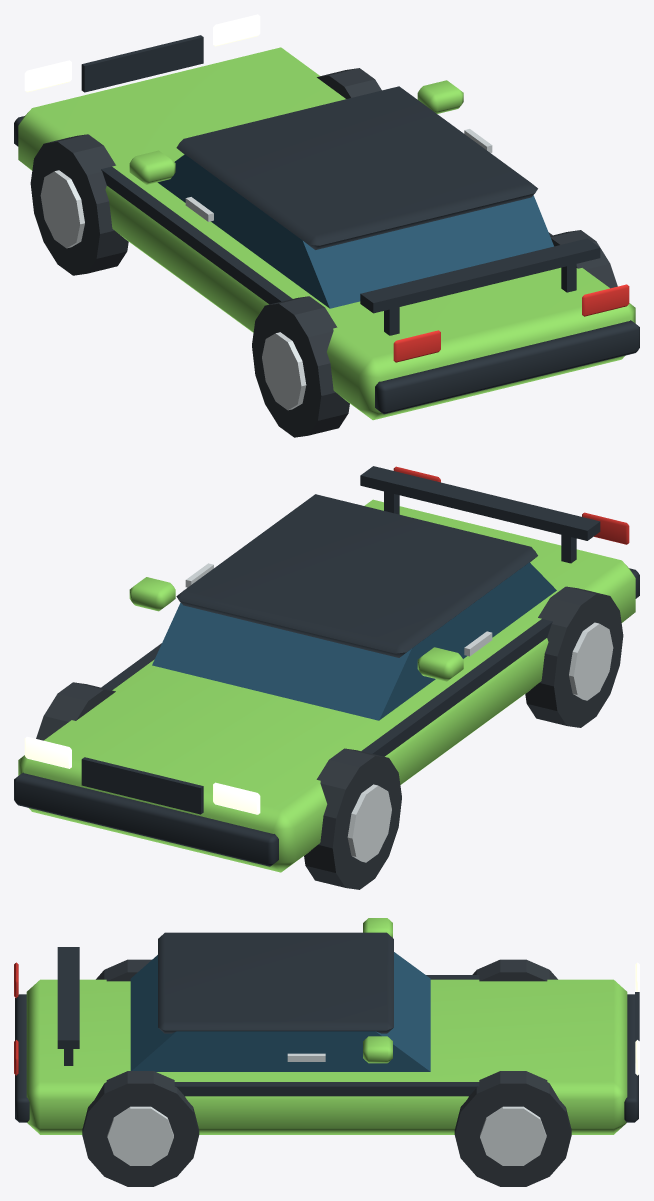
File: car_sport.glb
The picture shows the model from 3 angles, top to bottom: view 1: azimuth 30°, elevation 25°; view 2: azimuth 150°, elevation 25°; view 3: azimuth 270°, elevation 25°; orthographic projection. The views are drawn at different scales.
Parts seen in each view (by area): view 1: car_sport_lower, car_sport_roof, car_sport_glasshouse, car_sport_rear_bumper, car_sport_tire, car_sport_tire.001, car_sport_spoiler, car_sport_side_sill, car_sport_grille, car_sport_hub, car_sport_hub.001, car_sport_tire.003 (+7 smaller); view 2: car_sport_lower, car_sport_roof, car_sport_glasshouse, car_sport_front_bumper, car_sport_tire.001, car_sport_tire, car_sport_spoiler, car_sport_side_sill, car_sport_grille, car_sport_hub, car_sport_hub.001, car_sport_tire.003 (+6 smaller); view 3: car_sport_lower, car_sport_roof, car_sport_glasshouse, car_sport_tire.002, car_sport_tire.003, car_sport_side_sill.001, car_sport_hub.002, car_sport_hub.003, car_sport_spoiler, car_sport_rear_bumper, car_sport_tire.001, car_sport_front_bumper (+3 smaller).
Part boxes in pixels (x1,y1,x2,y2): car_sport_lower: [18, 47, 635, 420]; car_sport_roof: [176, 86, 537, 249]; car_sport_glasshouse: [157, 154, 553, 308]; car_sport_rear_bumper: [375, 320, 639, 414]; car_sport_tire: [252, 296, 349, 437]; car_sport_tire.001: [30, 134, 128, 275]; car_sport_spoiler: [360, 238, 600, 313]; car_sport_side_sill: [101, 166, 292, 304]; car_sport_grille: [81, 35, 203, 92]; car_sport_hub: [262, 332, 306, 410]; car_sport_hub.001: [40, 170, 84, 248]; car_sport_tire.003: [317, 68, 381, 98]; car_sport_lower: [18, 499, 635, 872]; car_sport_roof: [176, 494, 537, 657]; car_sport_glasshouse: [152, 562, 556, 720]; car_sport_front_bumper: [14, 772, 278, 866]; car_sport_tire.001: [304, 748, 401, 889]; car_sport_tire: [525, 586, 623, 727]; car_sport_spoiler: [360, 466, 600, 540]; car_sport_side_sill: [361, 619, 552, 756]; car_sport_grille: [81, 757, 203, 814]; car_sport_hub: [569, 622, 613, 700]; car_sport_hub.001: [347, 784, 391, 862]; car_sport_tire.003: [36, 682, 115, 740]; car_sport_lower: [26, 979, 627, 1134]; car_sport_roof: [158, 932, 393, 1033]; car_sport_glasshouse: [130, 952, 430, 1071]; car_sport_tire.002: [82, 1071, 199, 1186]; car_sport_tire.003: [454, 1071, 571, 1186]; car_sport_side_sill.001: [174, 1082, 479, 1096]; car_sport_hub.002: [107, 1106, 173, 1165]; car_sport_hub.003: [480, 1106, 546, 1165]; car_sport_spoiler: [57, 947, 79, 1048]; car_sport_rear_bumper: [15, 994, 29, 1122]; car_sport_tire.001: [472, 959, 557, 981]; car_sport_front_bumper: [624, 994, 638, 1122].
Bounding box in the file's own units: 2.31 × 1.2 × 4.61.
